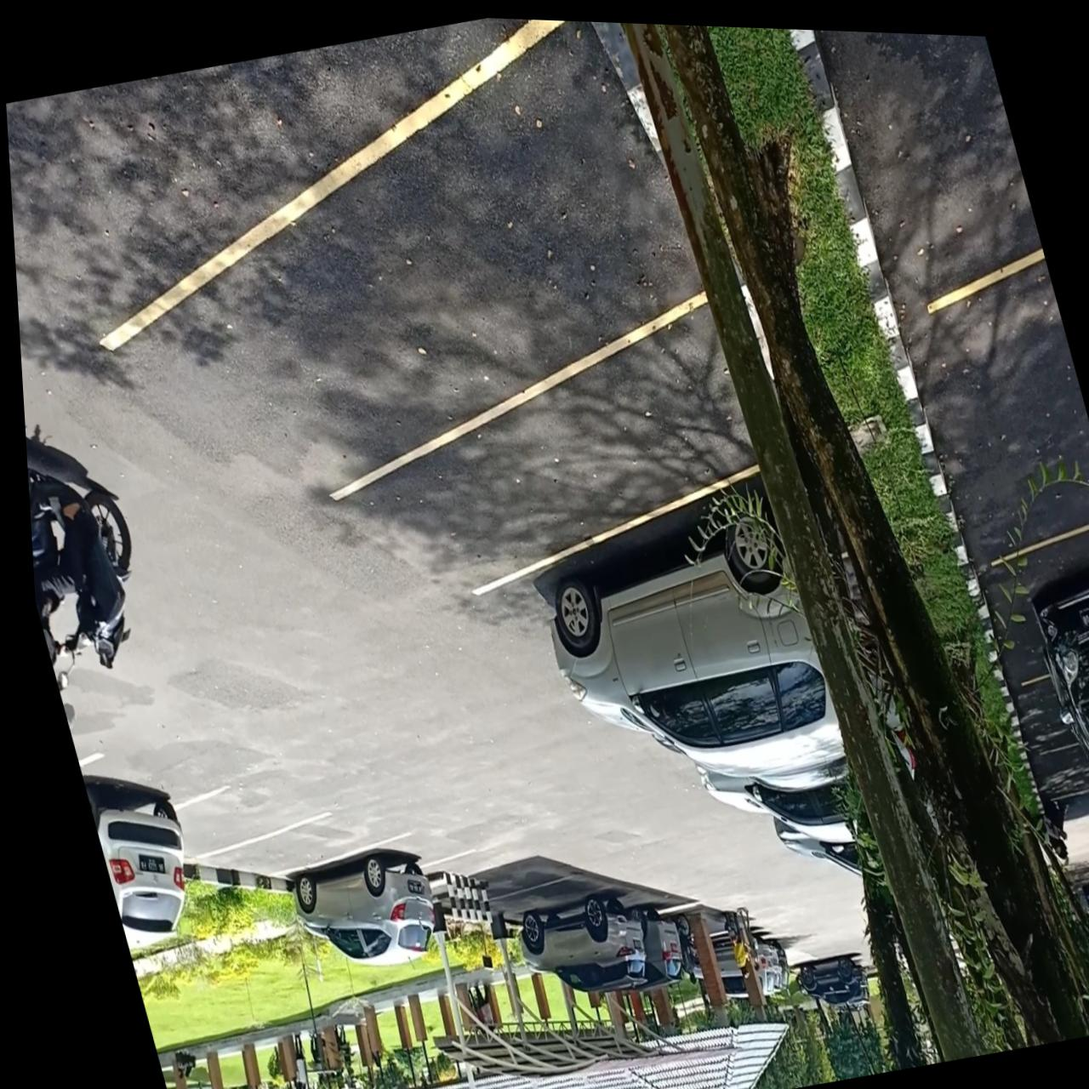cars: (968, 529, 1089, 690), (279, 833, 474, 890)
empty: (114, 21, 734, 494), (339, 297, 759, 592), (888, 254, 1089, 573), (122, 789, 329, 858), (198, 815, 408, 875), (489, 876, 610, 912)
